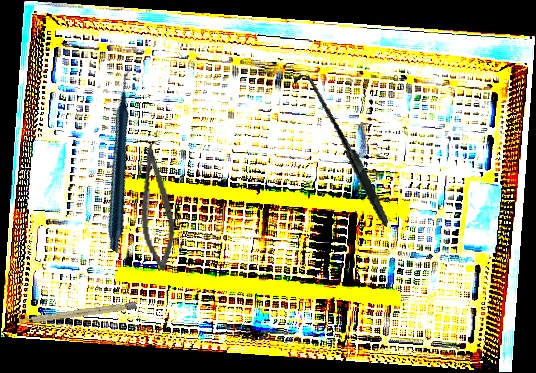Handpiece: (32, 67, 215, 255)
Hook Surgical: (268, 73, 414, 228)
Micro Scissor: (128, 142, 182, 273)
Scalpel Handle: (18, 301, 137, 326)
